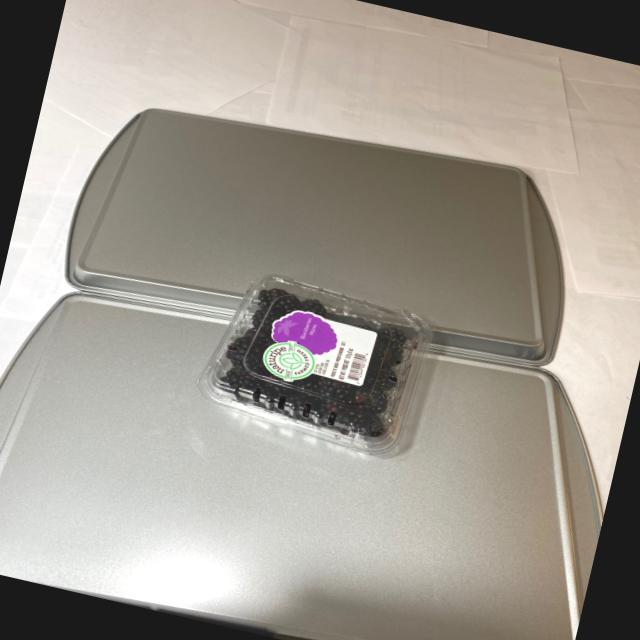blackberries: (198, 260, 436, 463)
